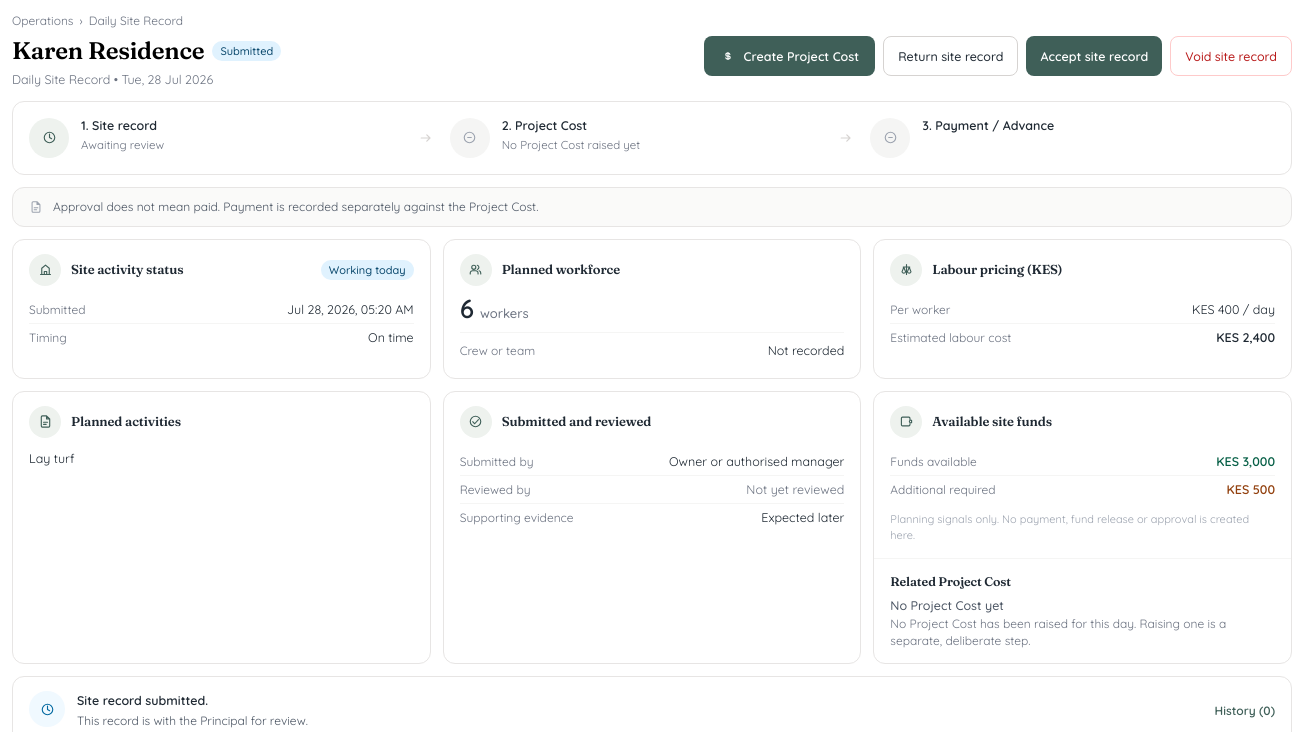
Test: Daily Site Record detail — history stays subordinate › opens the whole history on one press
Click the button "History (0)".
click(1245, 711)  # box [1215,693,1275,729]
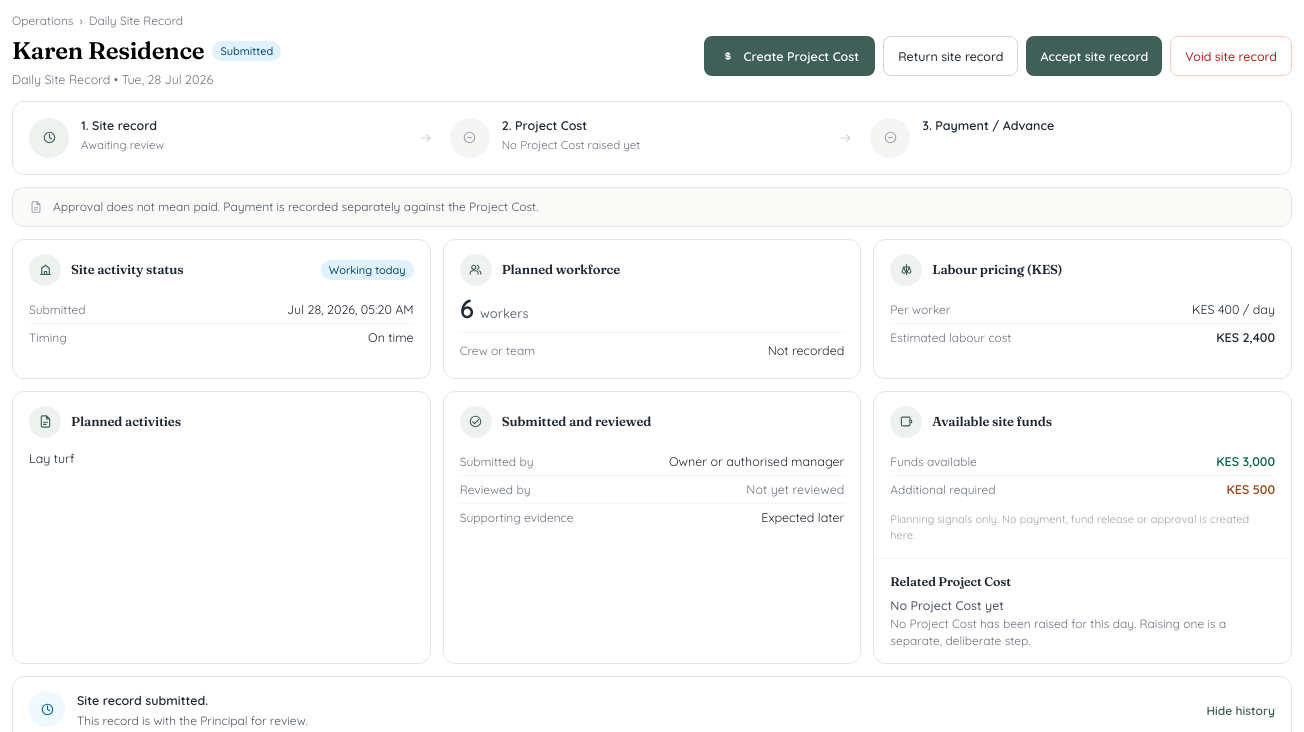
Now the button "Hide history" is expanded, box [1206,693,1275,729]
